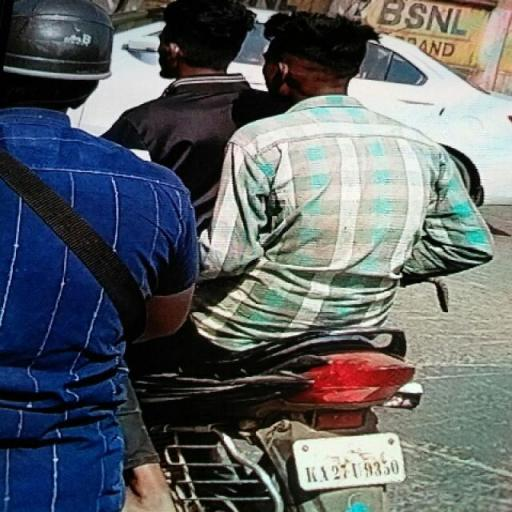bike: (112, 1, 492, 512)
numberplate: (295, 432, 403, 496)
withouthelmet: (266, 14, 368, 100), (161, 4, 249, 78)
